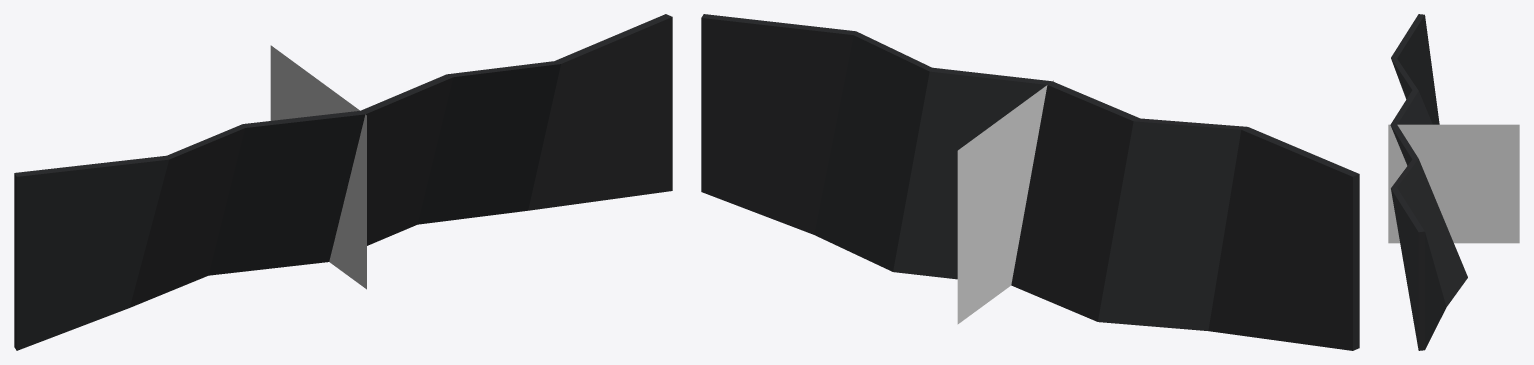
Rendered from Screen_Single.fbx.
3 renders of one model, left to right at view 1: azimuth 30°, elevation 25°; view 2: azimuth 150°, elevation 25°; view 3: azimuth 270°, elevation 25°, orthographic. The views are drawn at different scales.
Visible parts, largest first — view 1: Cube, Plane; view 2: Cube, Plane; view 3: Plane, Cube.
Part boxes in pixels (x1,y1,x2,y2): Cube: (14, 14, 672, 350); Plane: (270, 45, 366, 289); Cube: (701, 14, 1359, 350); Plane: (957, 80, 1053, 324); Plane: (1388, 124, 1519, 243); Cube: (1390, 14, 1467, 350).
Bounding box in the file's own units: 789 × 203 × 200.
Materials: 1 (1 with a texture image).
